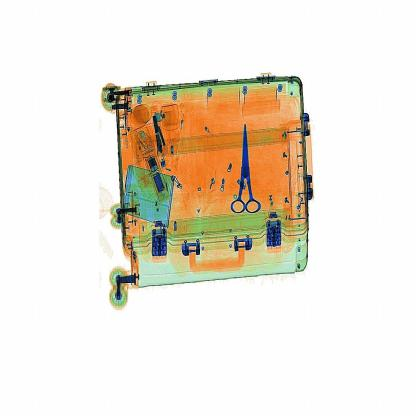gun: (228, 110, 270, 224)
